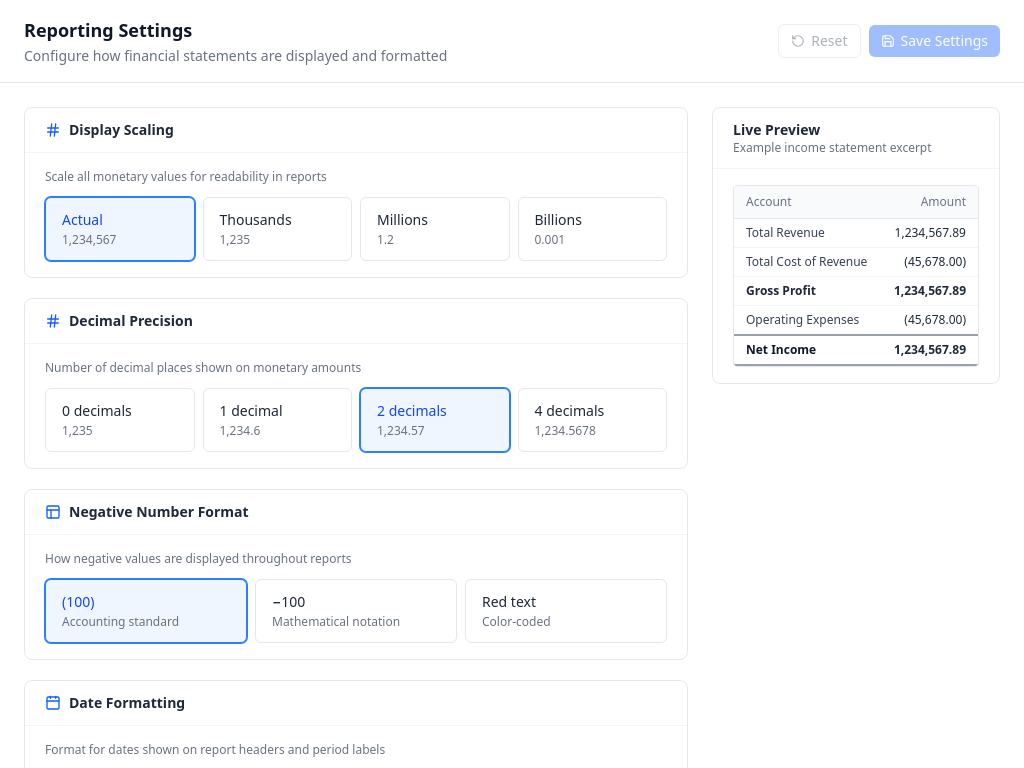
Test: ReportingSettingsPage › clicking a scaling option marks it dirty
Click the text "Thousands" at coordinates (256, 220), box [220,210,292,230]
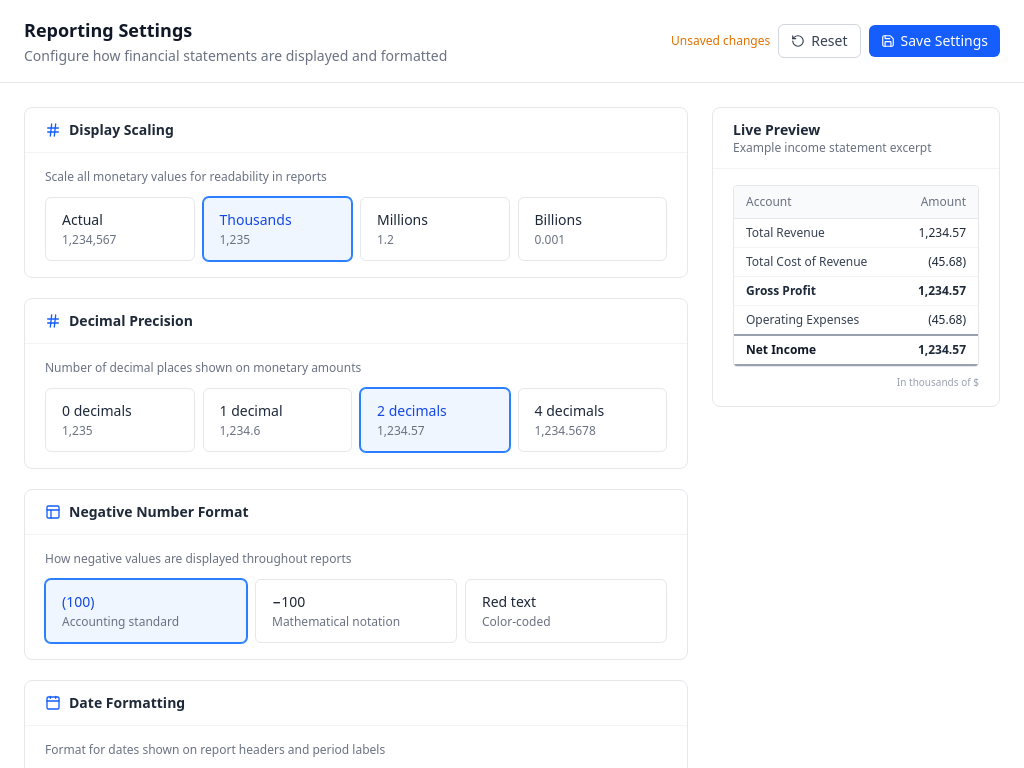
Expected: the text "Unsaved changes" is shown, [671,33,770,49]
